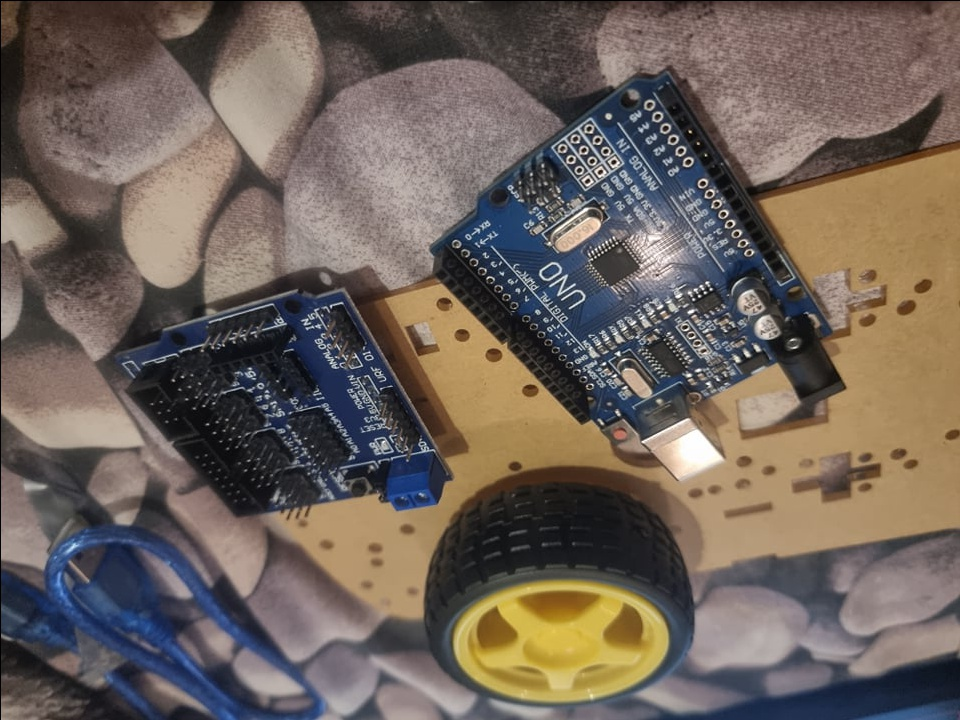5V EXPANSION: (106, 282, 451, 520)
UNO R3: (429, 75, 842, 482)
